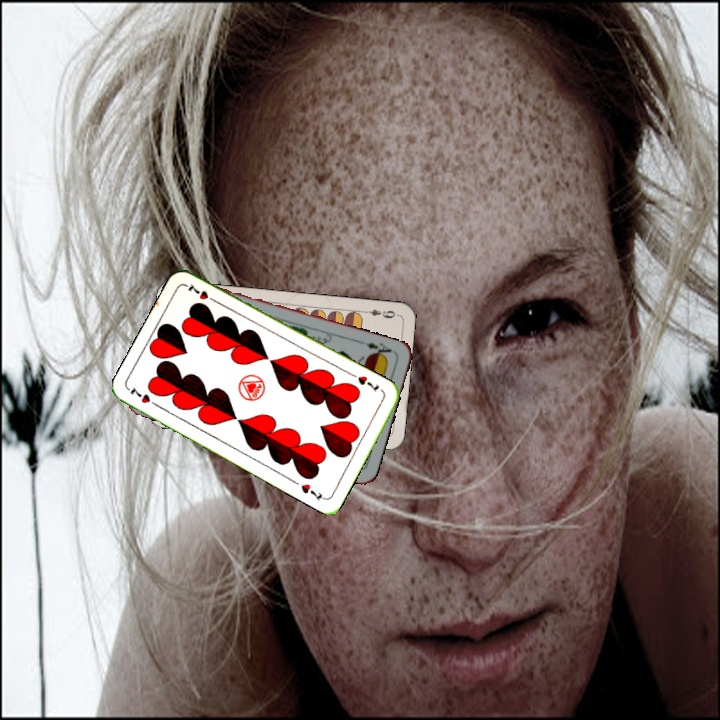E9: (359, 305, 400, 321)
EA: (362, 338, 394, 361)
H7: (125, 383, 162, 410), (353, 371, 381, 395)
